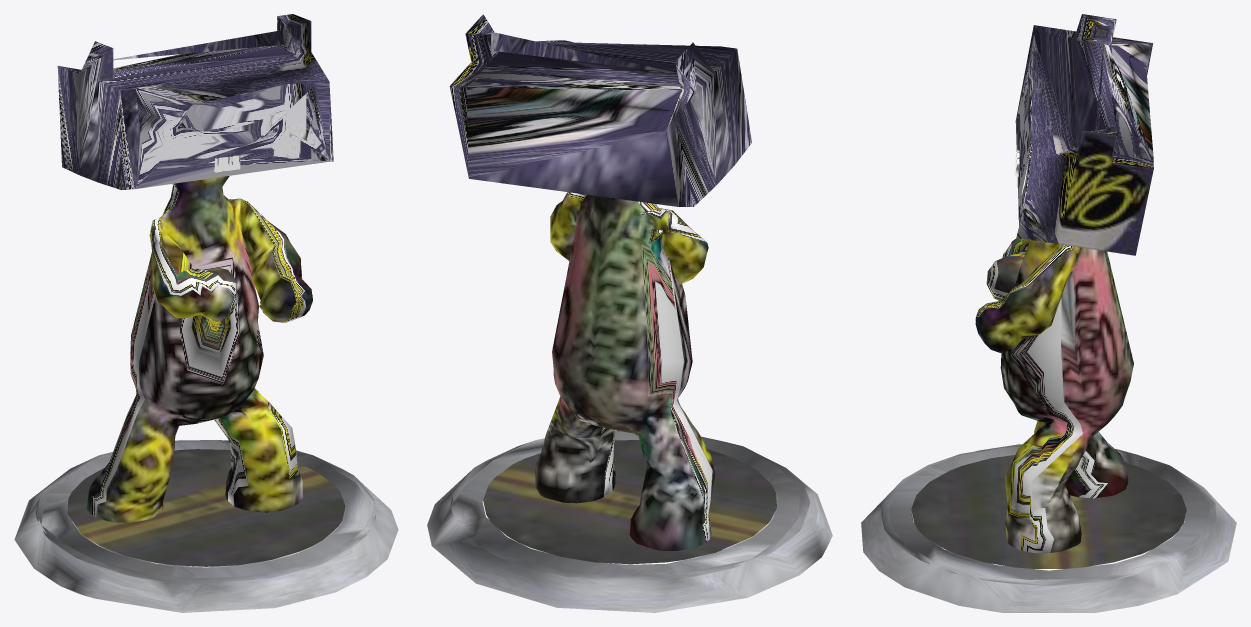
The picture shows the model from 3 angles, left to right: view 1: azimuth 30°, elevation 25°; view 2: azimuth 150°, elevation 25°; view 3: azimuth 270°, elevation 25°; orthographic projection. The views are drawn at different scales.
Size of the model in its own units: 1.42 by 2.04 by 1.43.
5 materials, 4 textured.
